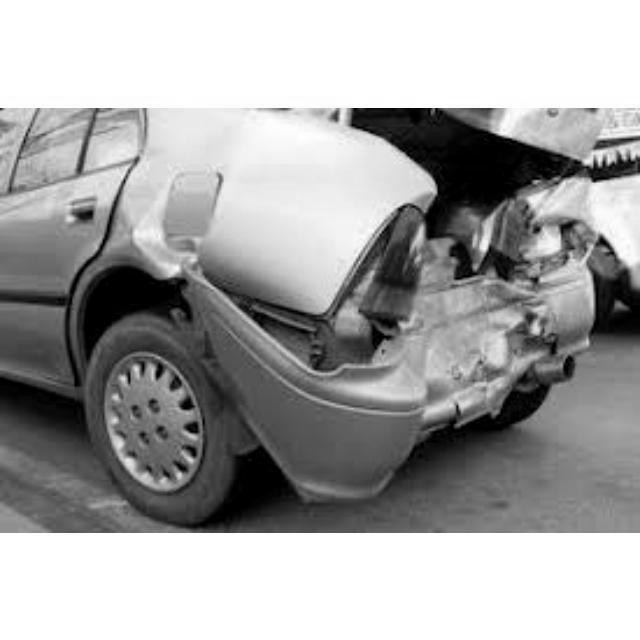Taillight-Damage: (357, 204, 434, 336), (510, 194, 592, 282)
boot-dent: (364, 107, 595, 279)
quaterpanel-dent: (129, 180, 232, 293)
rear-bumper-dent: (198, 290, 430, 485), (431, 288, 562, 413)
